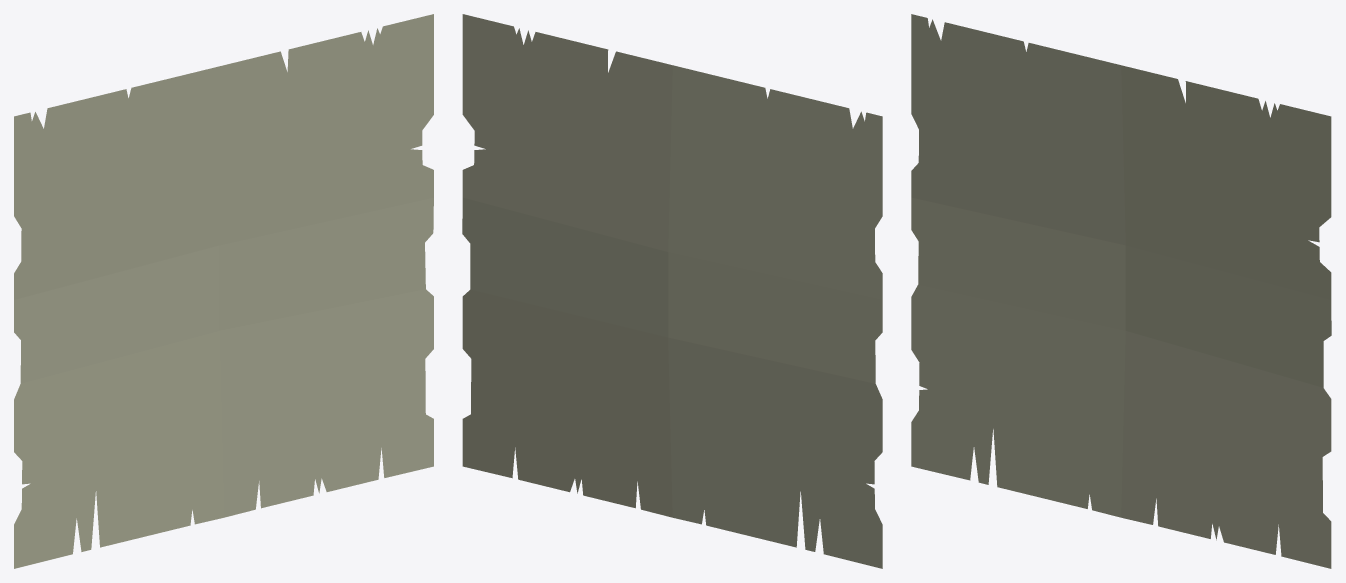
File: BankNote.glb
3 renders of one model, left to right at view 1: azimuth 30°, elevation 25°; view 2: azimuth 150°, elevation 25°; view 3: azimuth 330°, elevation 25°, orthographic.
Visible parts, largest first — view 1: Plane; view 2: Plane; view 3: Plane.
Part boxes in pixels (<box>): Plane: <box>14,14,433,568</box>; Plane: <box>462,14,882,568</box>; Plane: <box>911,14,1331,568</box>.
Size of the model in its own units: 1.6 by 1.64 by 0.0302.
